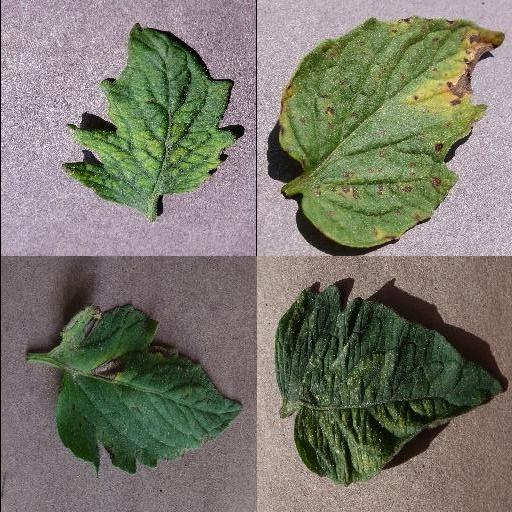Early Blight: (53, 303, 241, 473)
Mosaic Virus: (63, 23, 237, 213)
Septoria: (277, 19, 505, 248)
Spider Mites: (274, 285, 502, 489)
